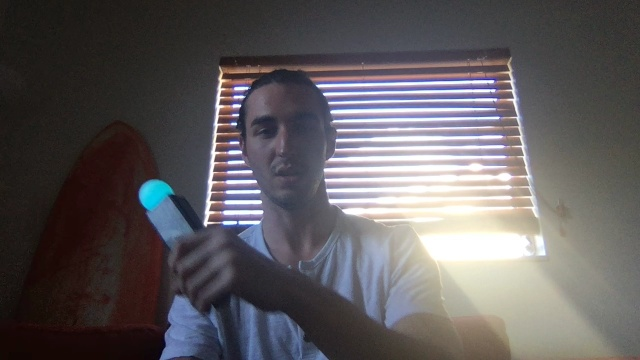wand: (140, 181, 174, 211)
